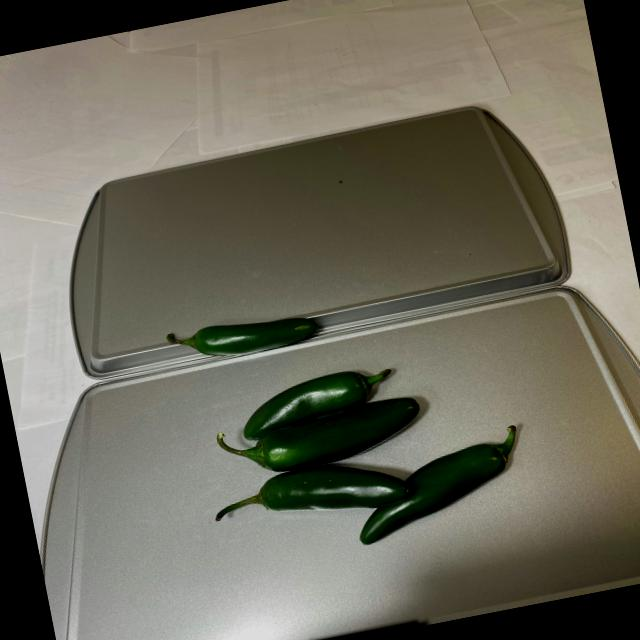chilli: (154, 266, 543, 572)
